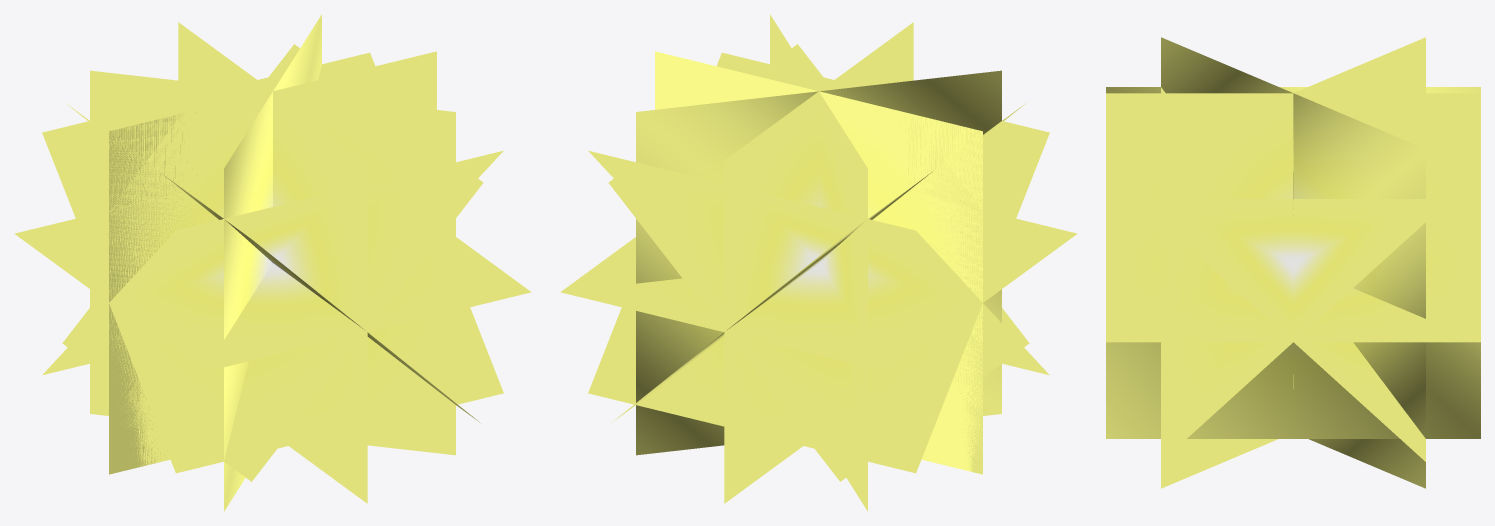
Rendered from Light.FBX.
3 renders of one model, left to right at view 1: azimuth 30°, elevation 25°; view 2: azimuth 150°, elevation 25°; view 3: azimuth 270°, elevation 25°, orthographic.
Parts seen in each view (by area): view 1: Object01; view 2: Object01; view 3: Object01.
Boxes of the visible parts, x1,y1,x2,y2 form: Object01: [14, 14, 531, 511]; Object01: [560, 14, 1077, 511]; Object01: [1106, 37, 1480, 488].
Bounding box in the file's own units: 150 × 150 × 150.
